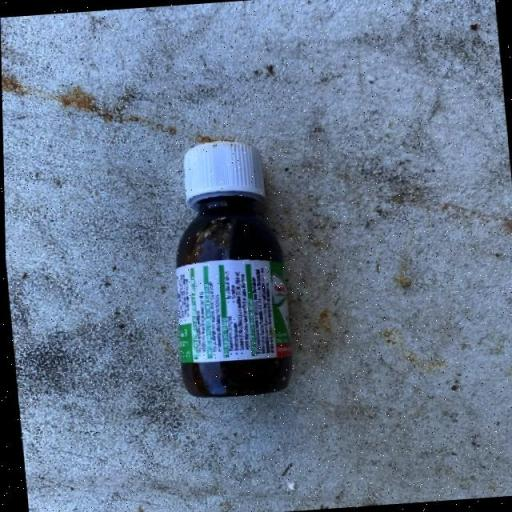plastic: (158, 136, 295, 400)
